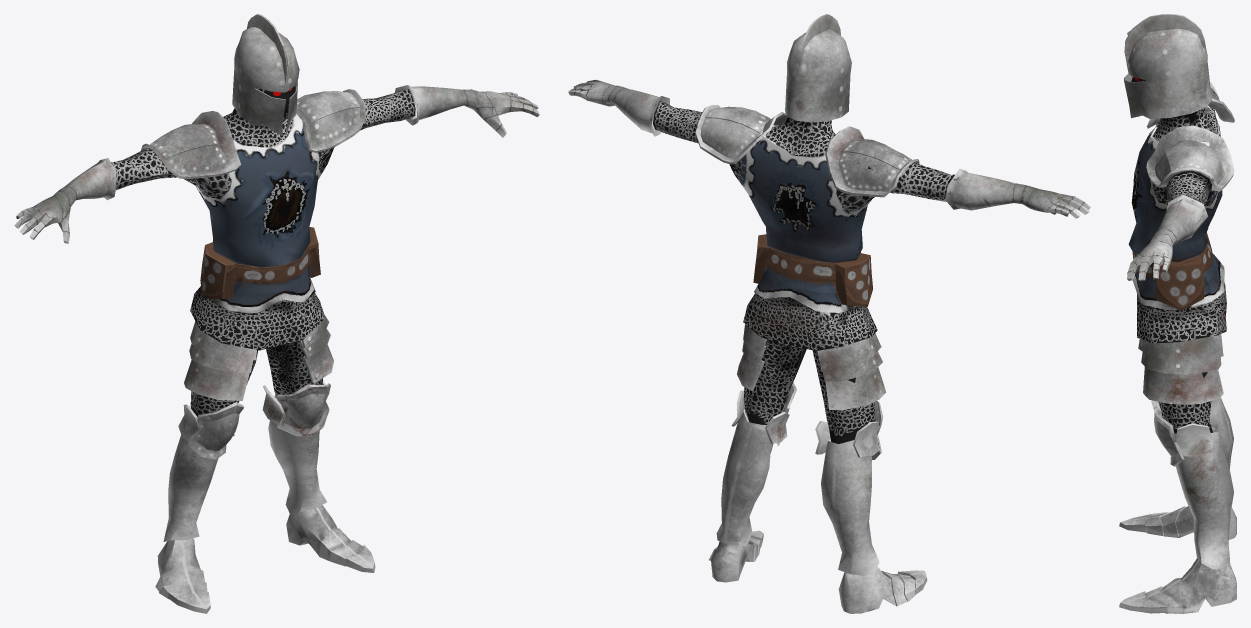
Rendered from GuardKnight.obj.
3 renders of one model, left to right at view 1: azimuth 30°, elevation 25°; view 2: azimuth 150°, elevation 25°; view 3: azimuth 270°, elevation 25°, orthographic.
Parts seen in each view (by area): view 1: Guard; view 2: Guard; view 3: Guard.
Part boxes in pixels (<box>): Guard: <box>14,14,539,613</box>; Guard: <box>568,14,1090,613</box>; Guard: <box>1119,14,1236,613</box>.
Bounding box in the file's own units: 233 × 240 × 46.44.
